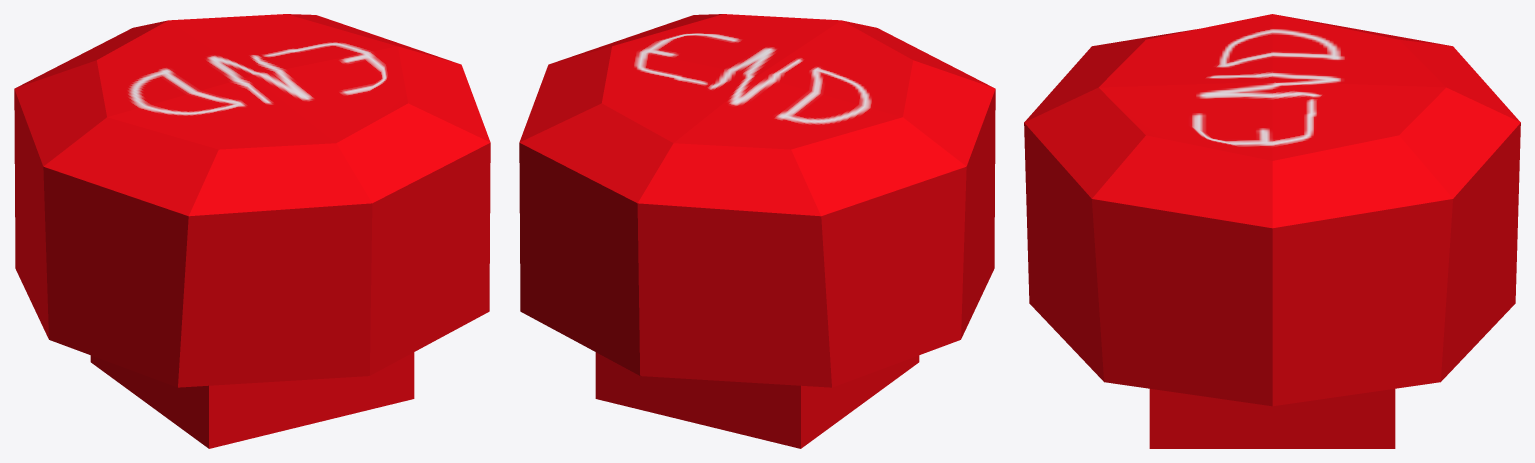
Rendered from butondone.glb.
3 renders of one model, left to right at view 1: azimuth 30°, elevation 25°; view 2: azimuth 150°, elevation 25°; view 3: azimuth 270°, elevation 25°, orthographic. The views are drawn at different scales.
Parts seen in each view (by area): view 1: Cube.002; view 2: Cube.002; view 3: Cube.002.
Part boxes in pixels (x1,y1,x2,y2): Cube.002: [14, 14, 490, 448]; Cube.002: [519, 14, 995, 448]; Cube.002: [1024, 14, 1520, 448].
Bounding box in the file's own units: 0.4242 × 0.3005 × 0.4213.
Materials: 2 (1 with a texture image).
